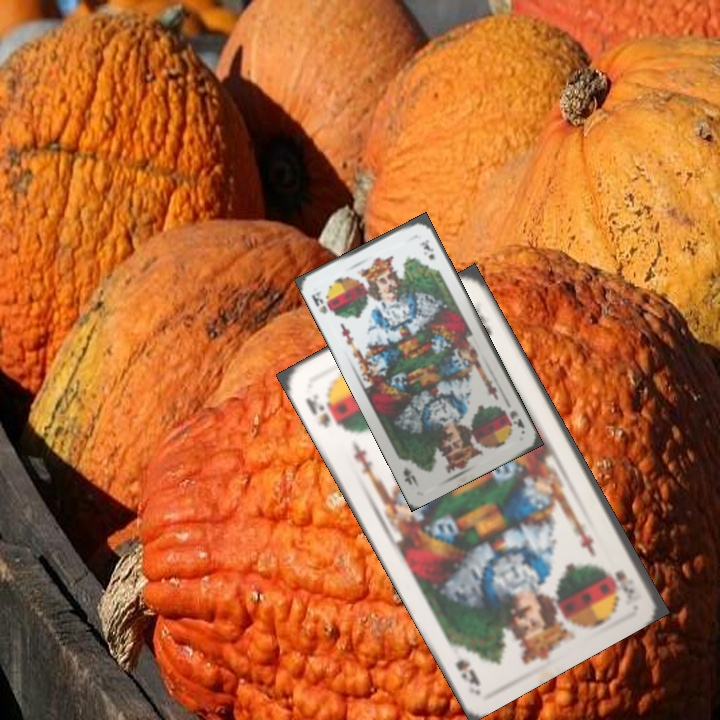SK: (301, 394, 342, 431), (610, 566, 638, 601), (307, 287, 330, 316), (506, 406, 527, 431)
